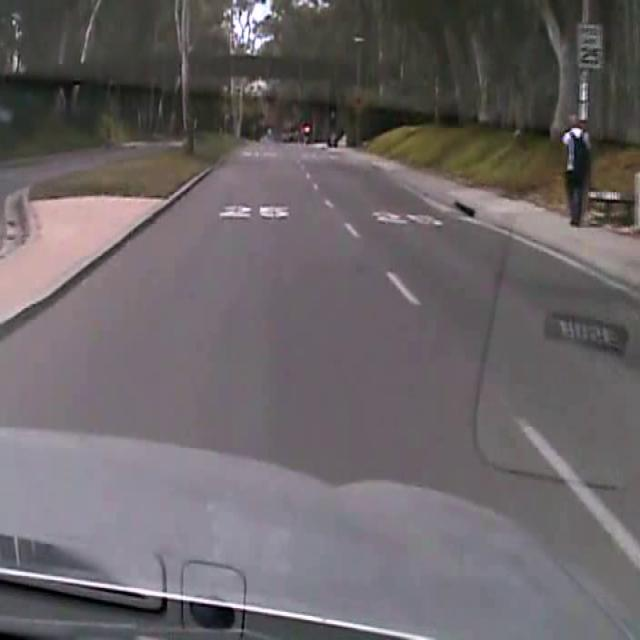speedLimit25: (575, 22, 603, 70)
